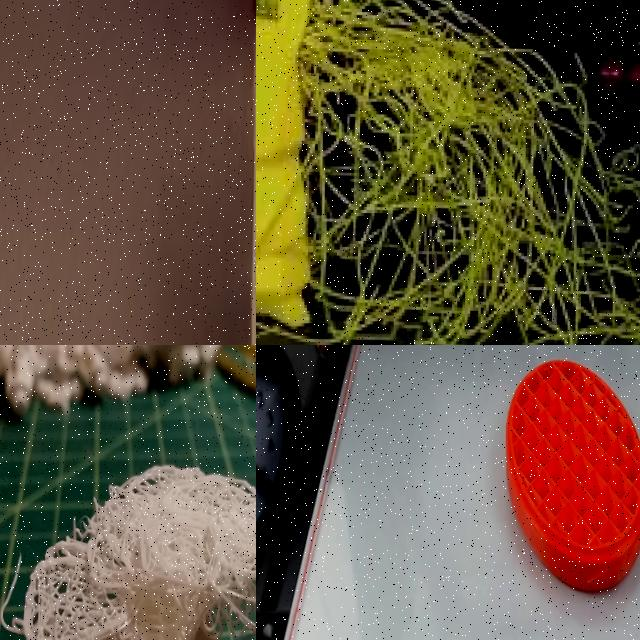spaghetti: (304, 0, 640, 345), (22, 465, 256, 640)
